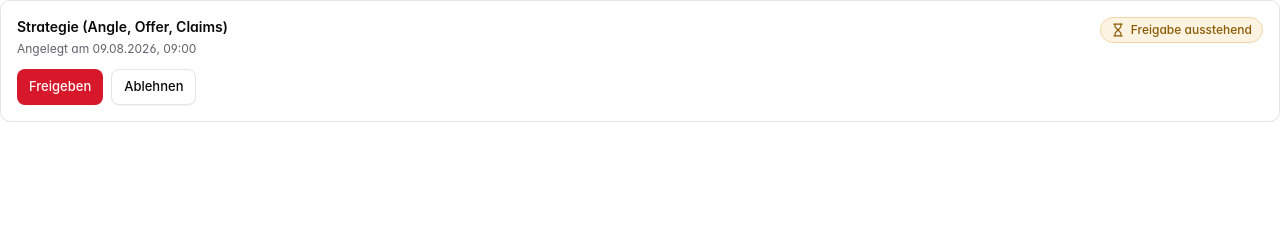
Test: ApprovalPanel — content-hash invalidation › surfaces a refused approval as a German error rather than a success
Click the button "Freigeben" at (60, 87), box [17,69,103,105]
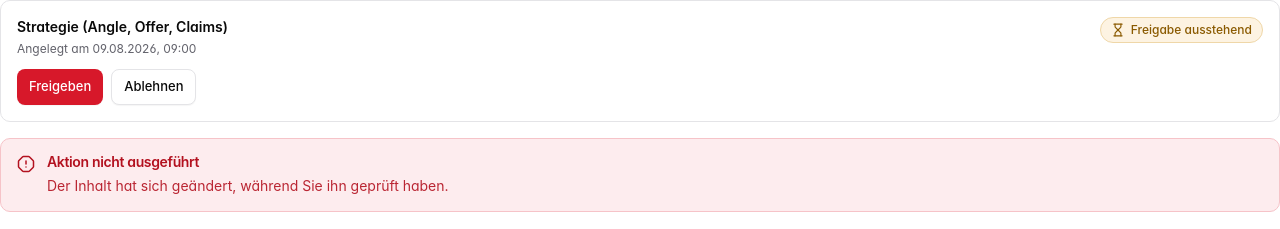
Check: the text "Aktion nicht ausgeführt" is shown, box [47,153,199,170]
Check: the text "Der Inhalt hat sich geändert, während Sie ihn geprüft haben." is shown, box [47,176,449,194]
